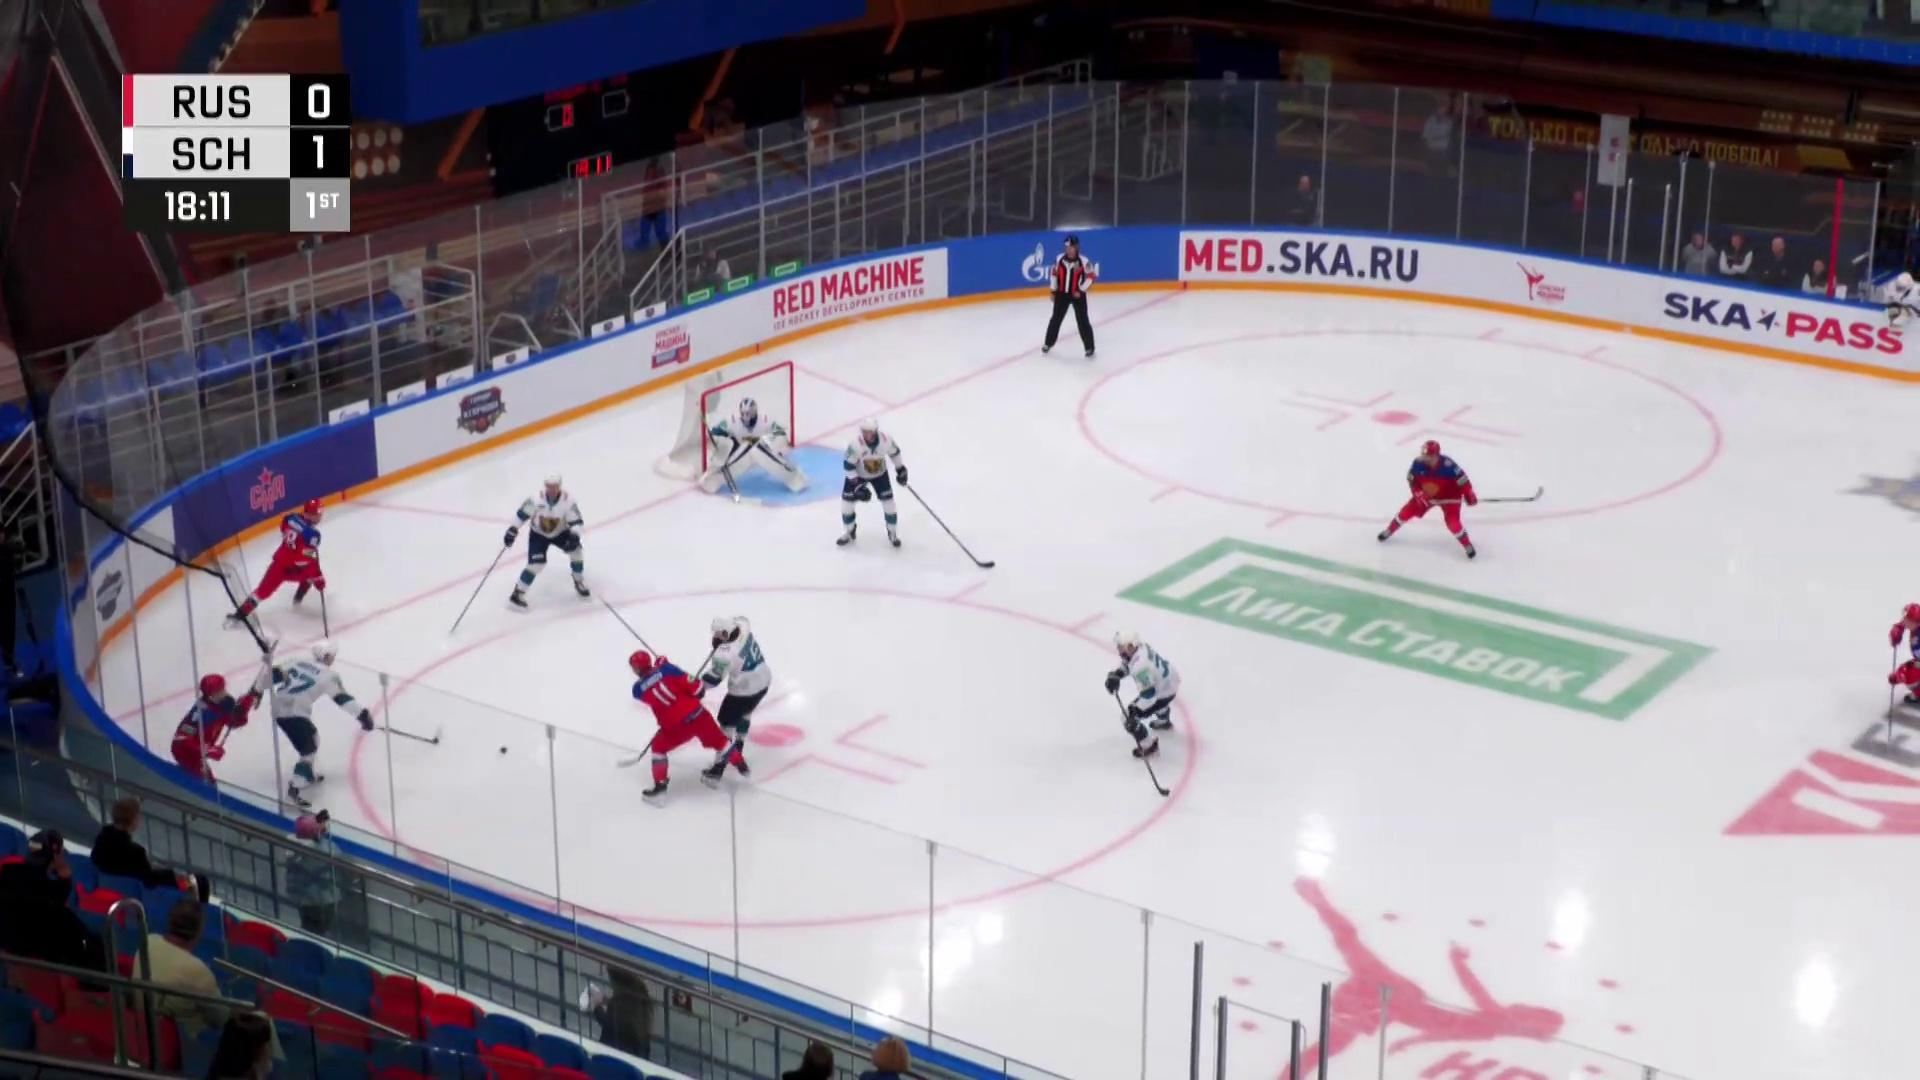ball: (498, 745, 508, 756)
